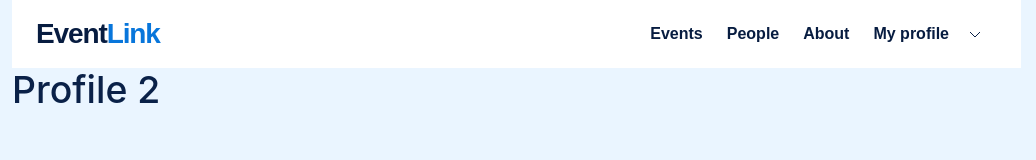
Test case: My profile uses the authenticated owner while viewing /users/2
Click the heading named "Account menu" at (975, 34), box [967,26,983,42]
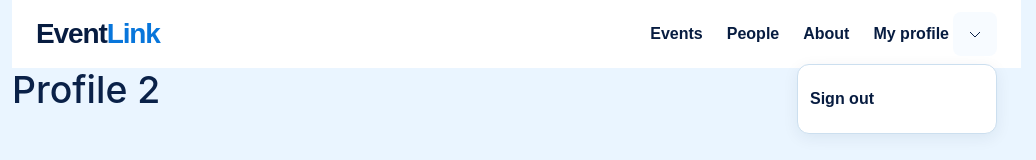
Now the button "Sign out" is shown, box [810,77,984,121]
